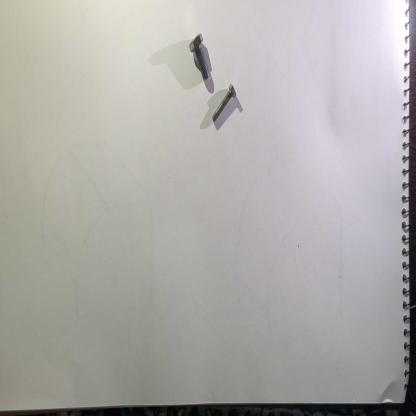Bolts: (188, 30, 210, 88), (211, 79, 238, 126)
